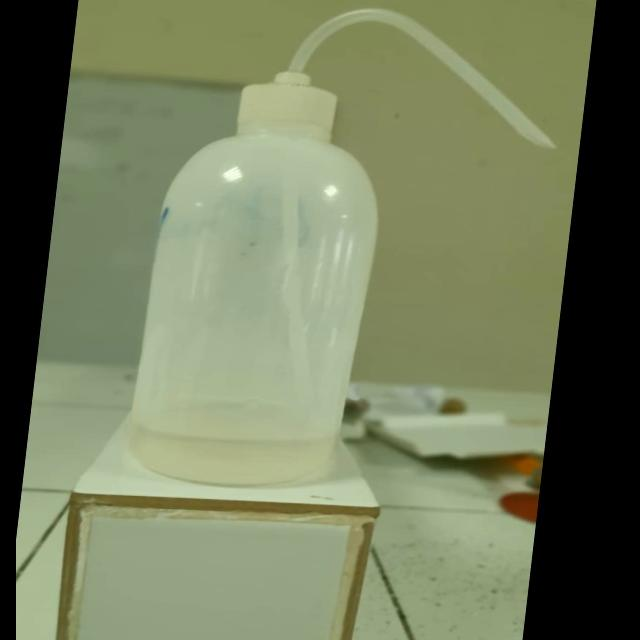Washing Bottle: (110, 0, 569, 494)
